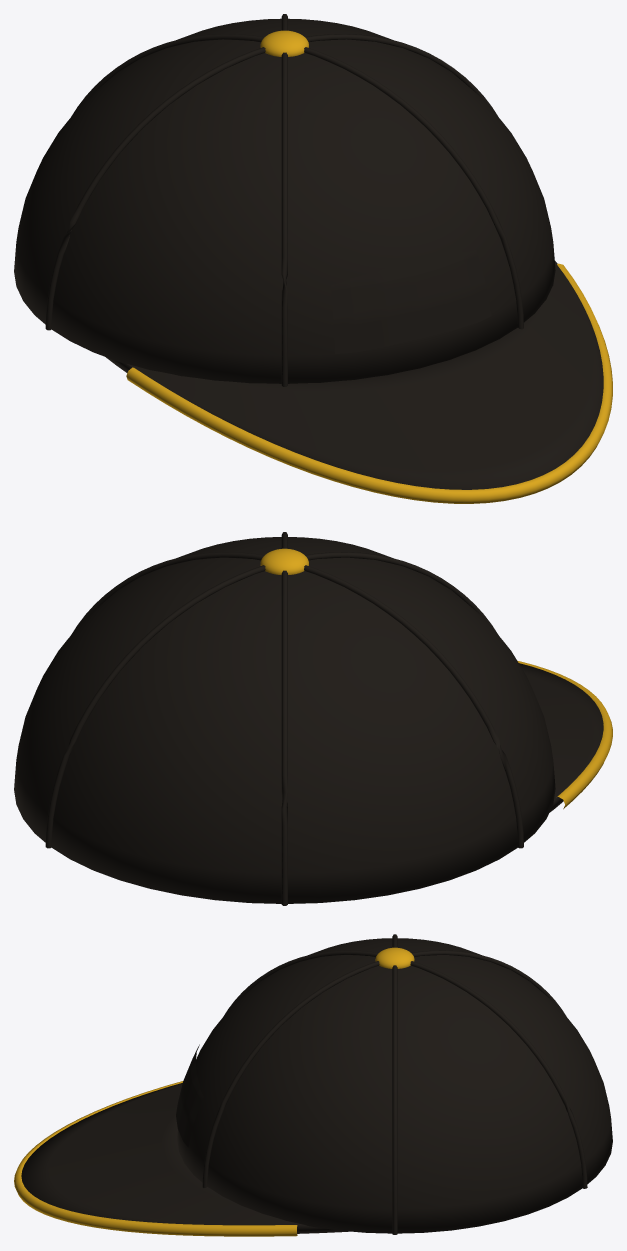
File: hat.glb
3 renders of one model, top to bottom at view 1: azimuth 30°, elevation 25°; view 2: azimuth 150°, elevation 25°; view 3: azimuth 270°, elevation 25°, orthographic. The views are drawn at different scales.
Visible parts, largest first — view 1: hat, hat_brim, print_front, hat_brim_edge, hat_seam5, hat_seam3, hat_seam4, hat_seam2, hat_seam0, hat_button; view 2: hat, hat_brim, hat_seam1, hat_seam3, hat_seam2, hat_brim_edge, hat_seam4, hat_seam0, hat_button; view 3: hat, hat_brim, hat_brim_edge, hat_seam5, hat_seam1, hat_seam0, print_front, hat_seam4, hat_seam2, hat_button.
Boxes of the visible parts, left/top/right/bottom form: hat: left=14, top=18, right=555, bottom=383; hat_brim: left=106, top=260, right=603, bottom=489; print_front: left=331, top=250, right=491, bottom=354; hat_brim_edge: left=126, top=263, right=612, bottom=503; hat_seam5: left=304, top=47, right=523, bottom=329; hat_seam3: left=45, top=47, right=265, bottom=330; hat_seam4: left=281, top=52, right=287, bottom=386; hat_seam2: left=71, top=34, right=264, bottom=116; hat_seam0: left=305, top=34, right=497, bottom=115; hat_button: left=260, top=30, right=308, bottom=56; hat: left=14, top=537, right=555, bottom=903; hat_brim: left=519, top=663, right=603, bottom=812; hat_seam1: left=45, top=565, right=265, bottom=848; hat_seam3: left=304, top=565, right=523, bottom=848; hat_seam2: left=281, top=570, right=287, bottom=905; hat_brim_edge: left=517, top=660, right=612, bottom=809; hat_seam4: left=305, top=552, right=498, bottom=635; hat_seam0: left=71, top=552, right=264, bottom=634; hat_button: left=260, top=548, right=308, bottom=574; hat: left=177, top=938, right=612, bottom=1233; hat_brim: left=21, top=1083, right=349, bottom=1233; hat_brim_edge: left=14, top=1081, right=297, bottom=1236; hat_seam5: left=202, top=961, right=379, bottom=1187; hat_seam1: left=410, top=961, right=587, bottom=1188; hat_seam0: left=392, top=965, right=397, bottom=1234; print_front: left=176, top=1044, right=203, bottom=1147; hat_seam4: left=223, top=950, right=378, bottom=1016; hat_seam2: left=411, top=950, right=566, bottom=1016; hat_button: left=375, top=947, right=414, bottom=968.
Size of the model in its own units: 1.02 by 0.5965 by 1.37.
